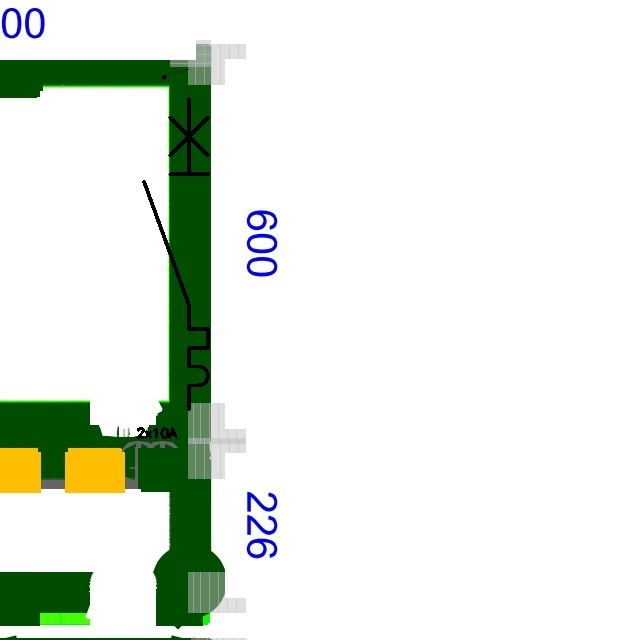interruptor_termomagnetico: (136, 90, 216, 416)
